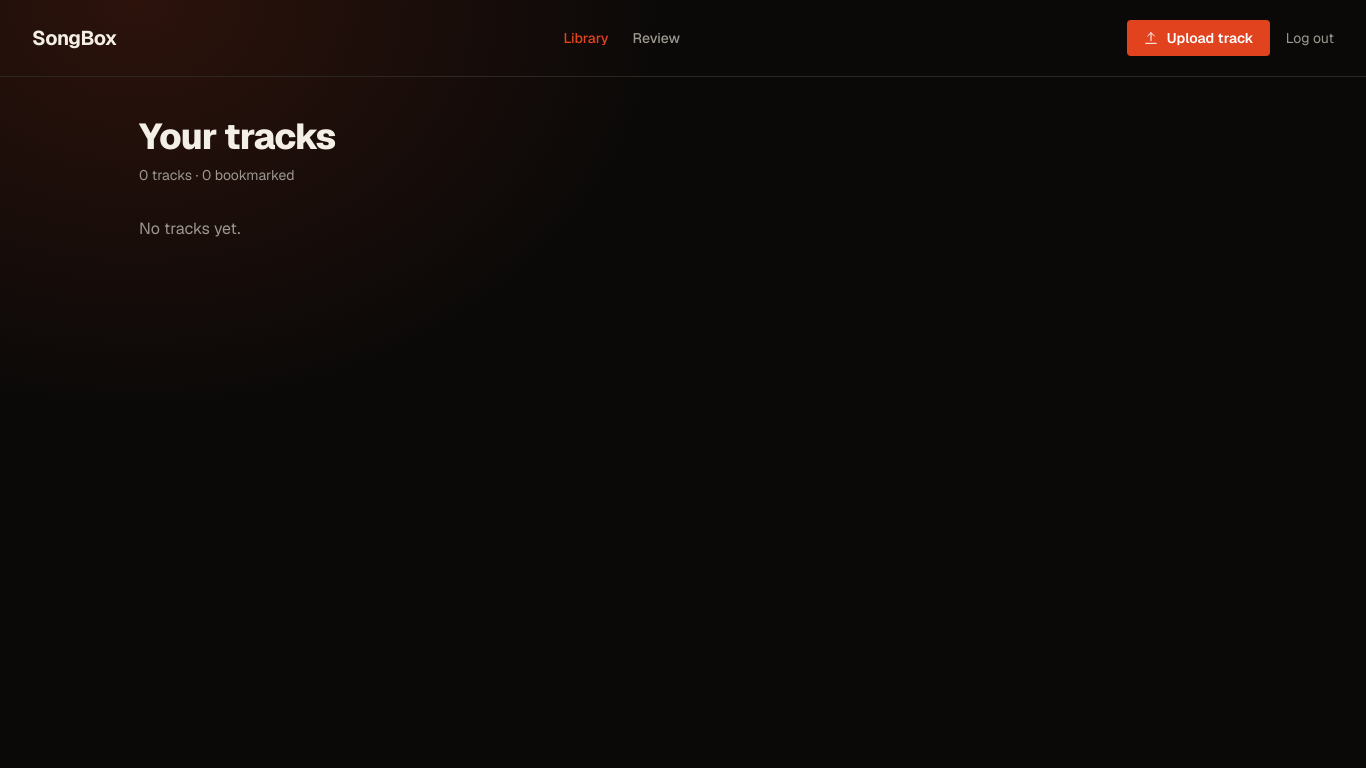
Test case: the upload control › clicking 'Upload track' opens the OS file picker
Click the button "Upload track": click(1198, 38) [1127,20,1270,56]
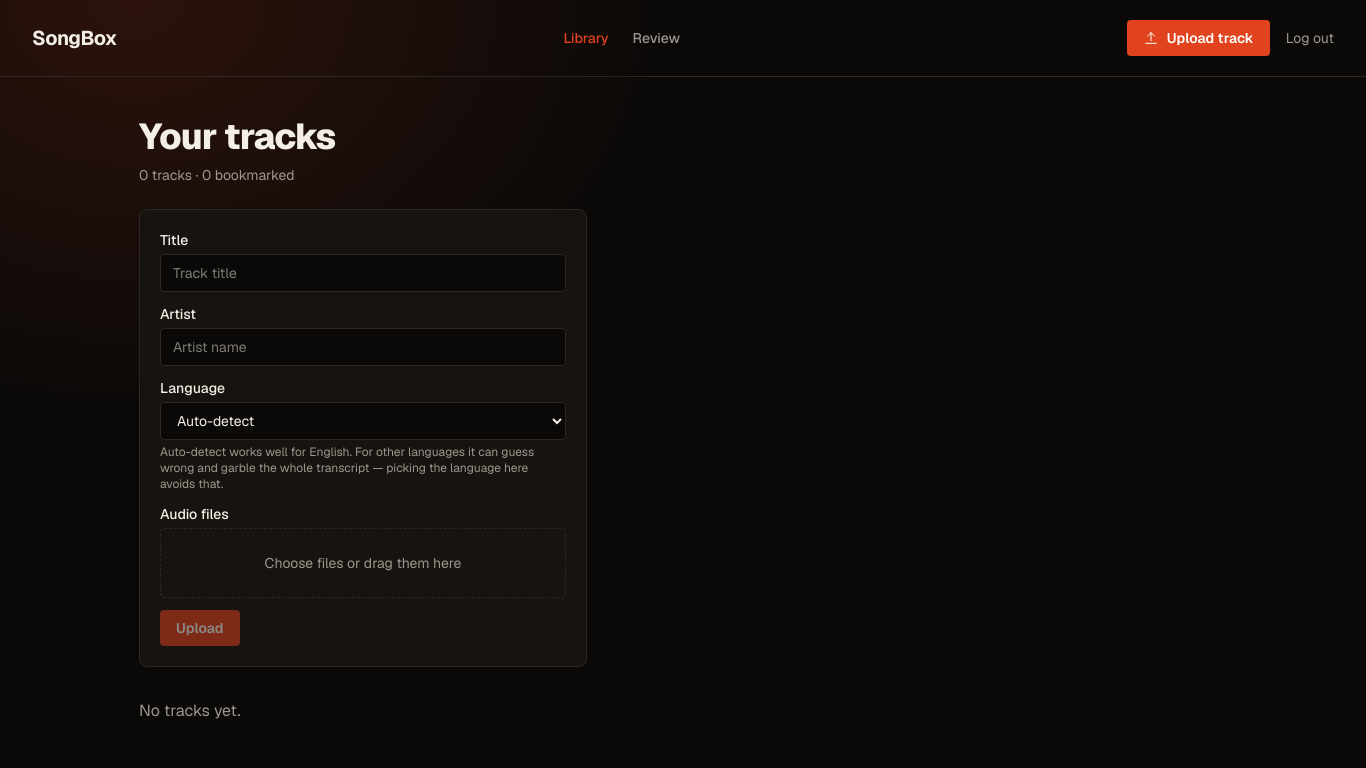
Now the form is shown, box [139,209,587,667]
